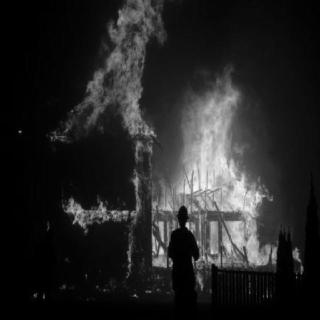Fire: (35, 2, 302, 282)
